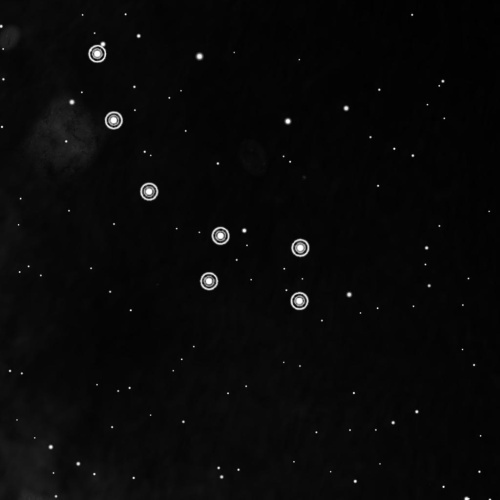ursa_minor: (83, 37, 315, 322)
